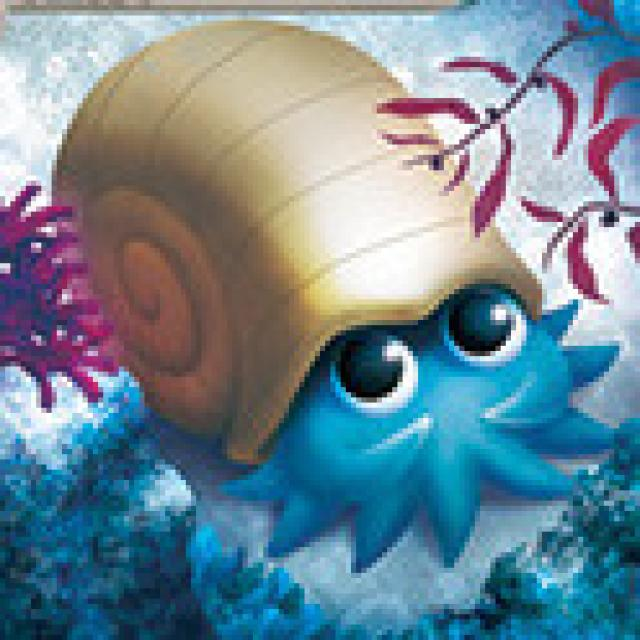Omanyte: (66, 24, 581, 524)
